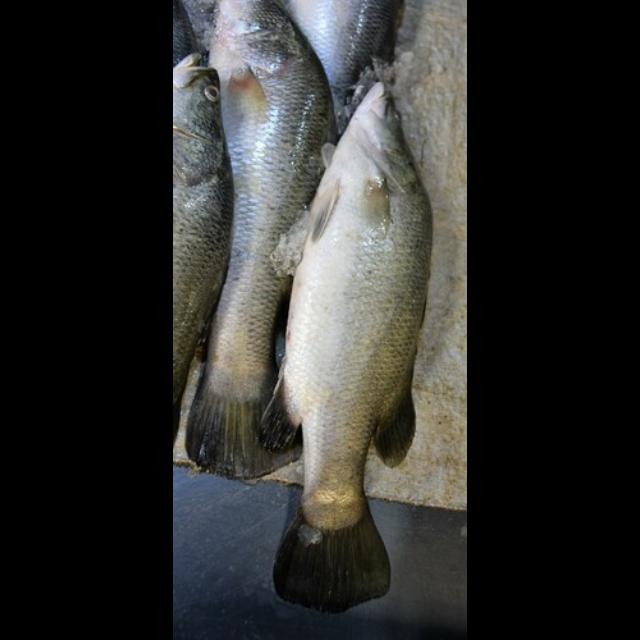Seabass: (261, 81, 435, 614), (184, 0, 340, 480), (173, 51, 234, 447)
